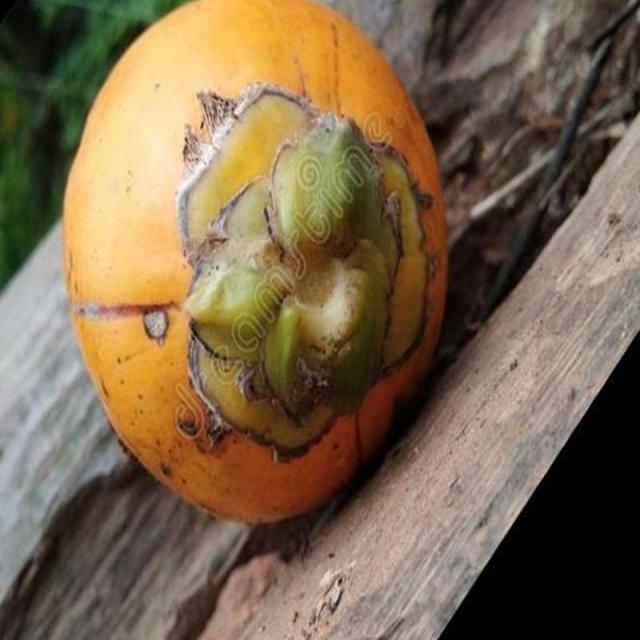good: (60, 0, 450, 532)
